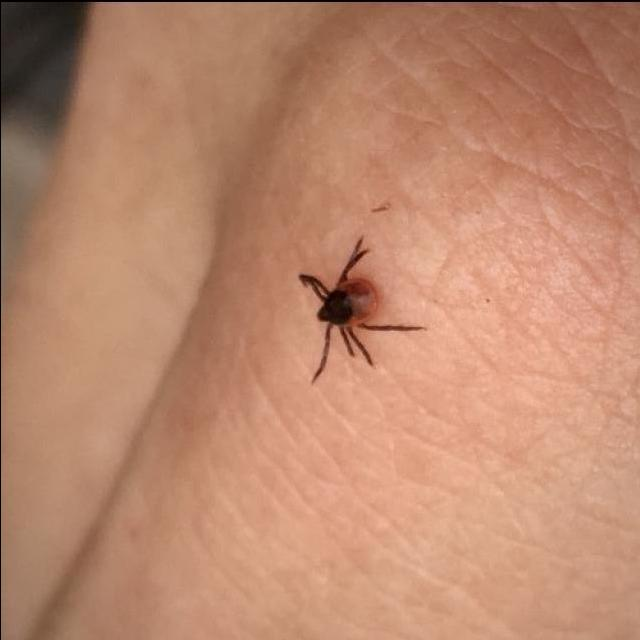Ixodes Ricinus-F: (298, 232, 424, 381)
